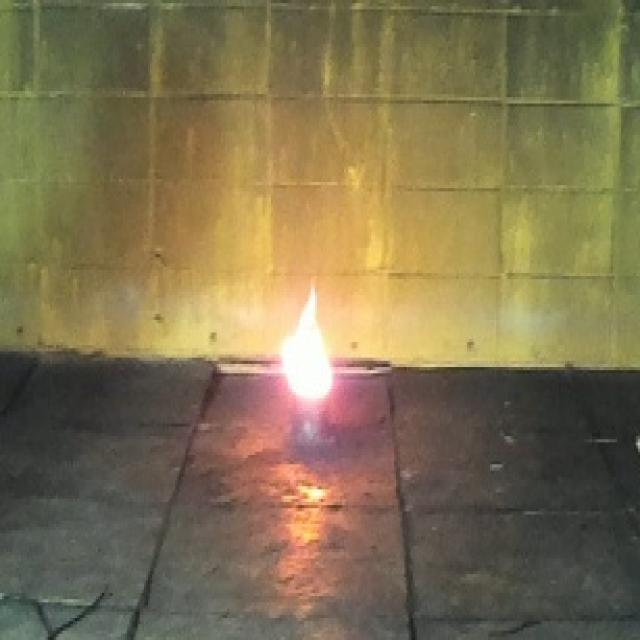Fire: (280, 287, 334, 399)
